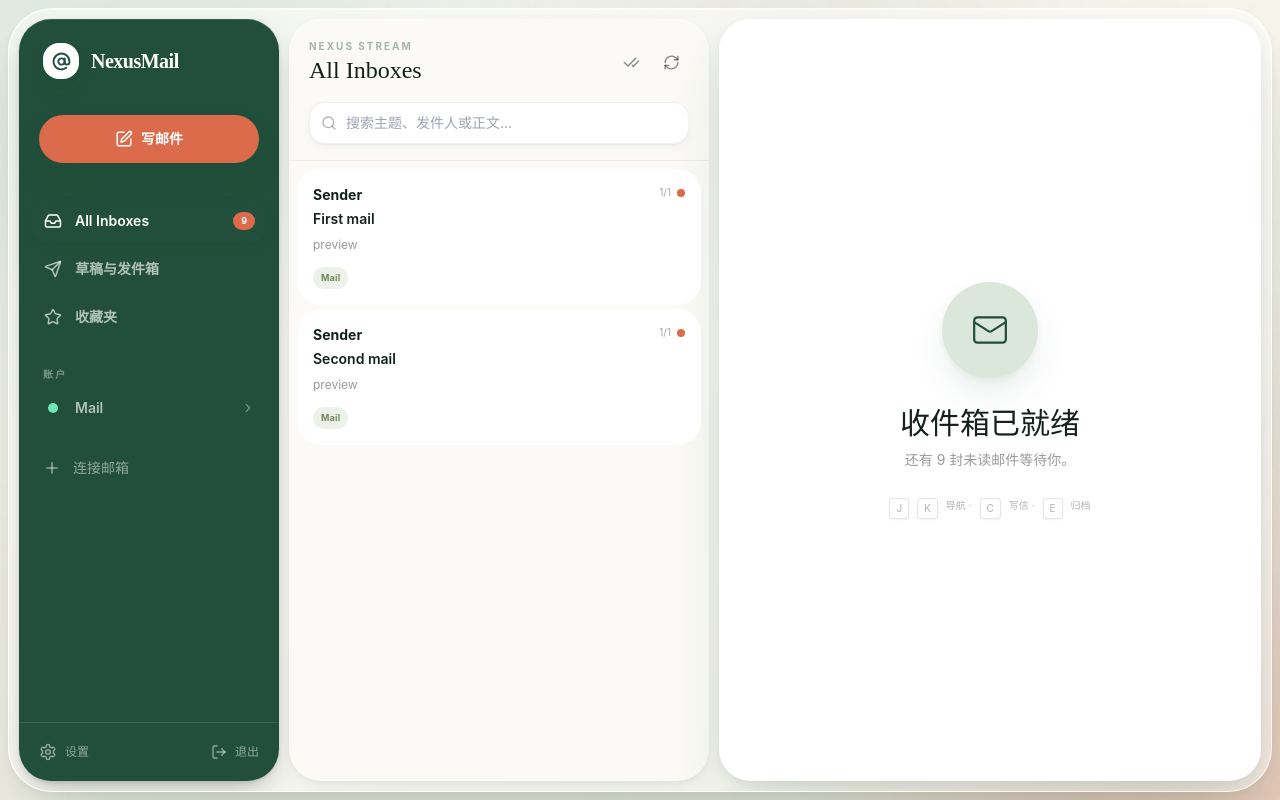
it: mark the current view read › draws the badge down when a message is opened
Check: the text "9" is shown, box [233,212,255,230]
Click the button "Sender 1/1 First mail preview Mail": click(338, 194) [297,169,701,304]
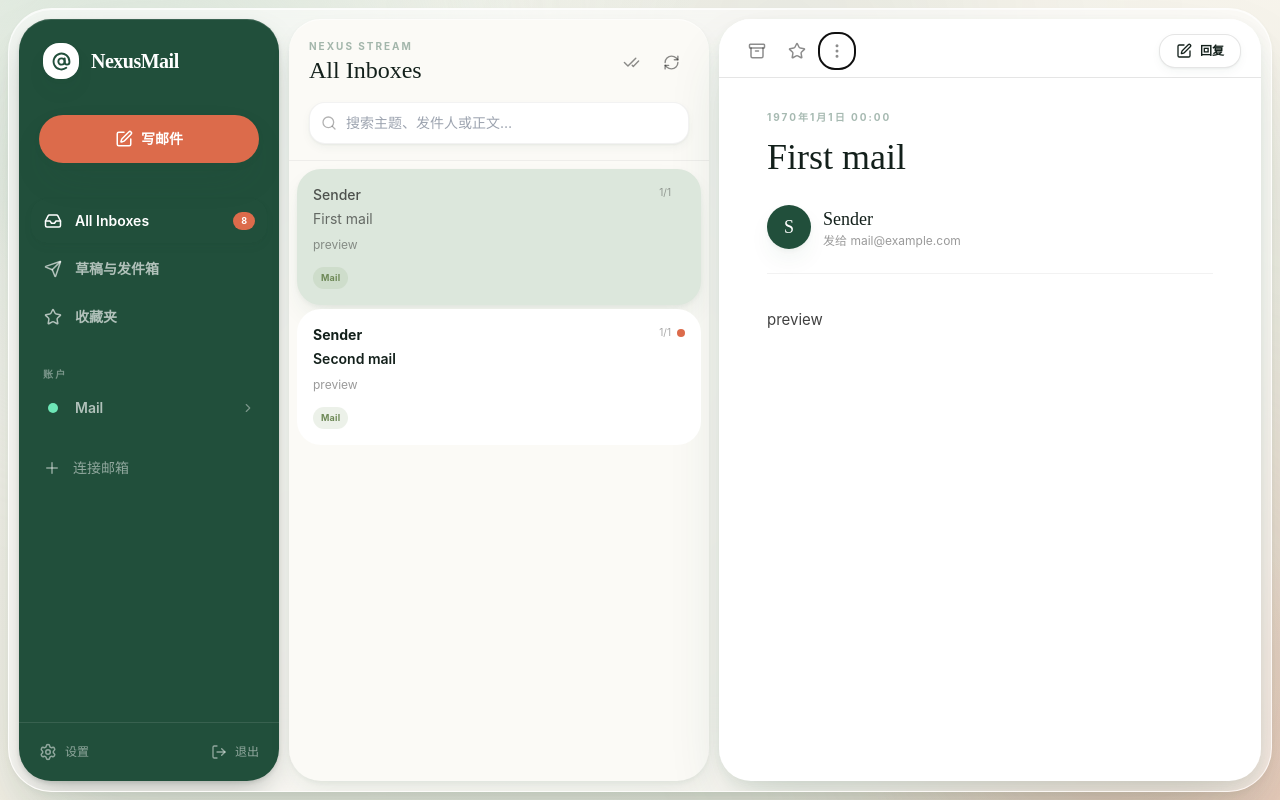
Check: the text "8" is shown, box [233,212,255,230]
